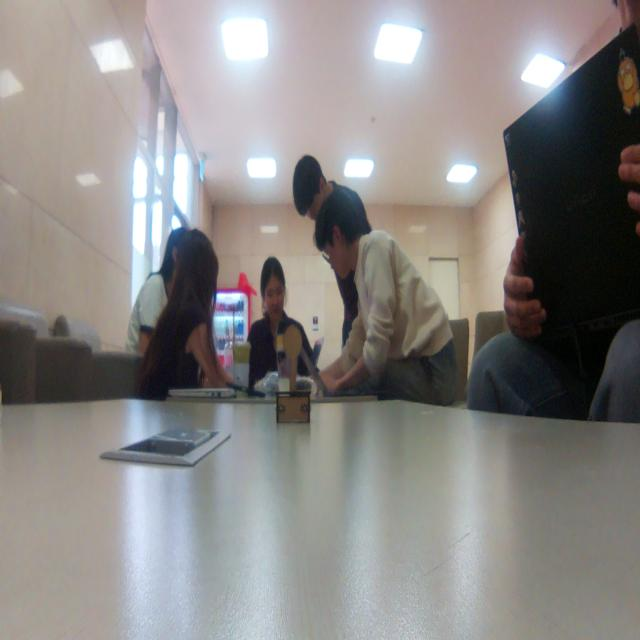target: (275, 326, 311, 425)
